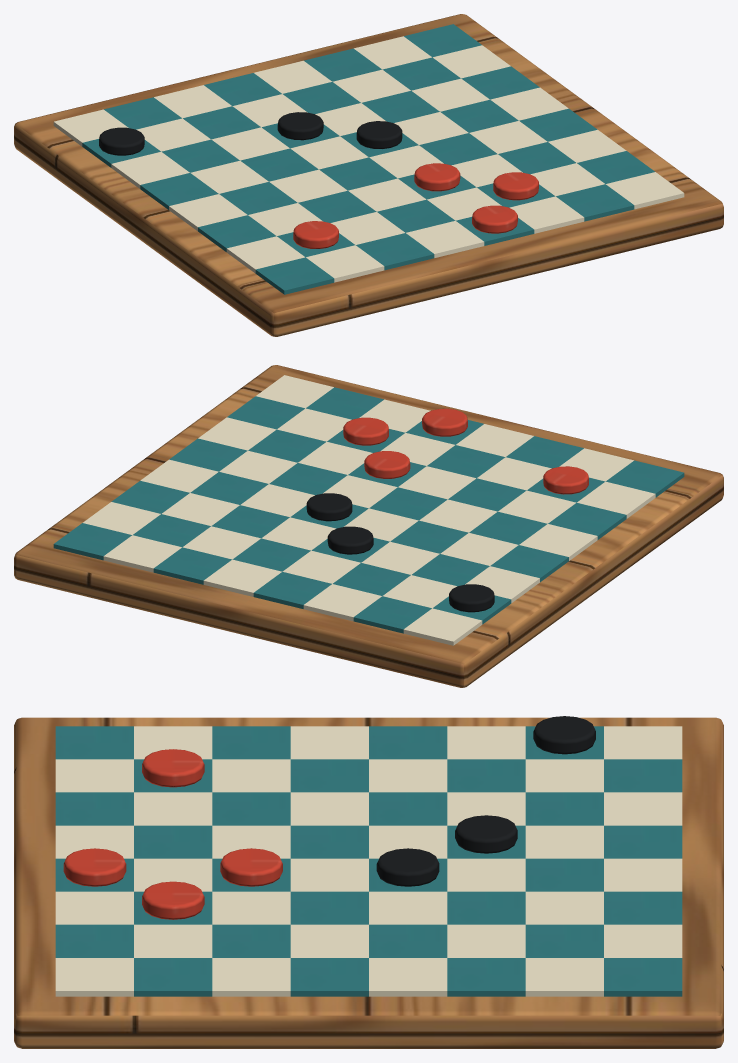
Rendered from CheckersBoard.glb.
3 renders of one model, top to bottom at view 1: azimuth 30°, elevation 25°; view 2: azimuth 150°, elevation 25°; view 3: azimuth 270°, elevation 25°, orthographic. The views are drawn at different scales.
Visible parts, largest first — view 1: CheckersBoard_Body; view 2: CheckersBoard_Body; view 3: CheckersBoard_Body.
Part boxes in pixels (x1,y1,x2,y2): CheckersBoard_Body: [14, 14, 723, 336]; CheckersBoard_Body: [14, 365, 723, 687]; CheckersBoard_Body: [14, 716, 723, 1048].
Size of the model in its own units: 0.34 by 0.031 by 0.34.
Materials: 5 (3 with a texture image).
